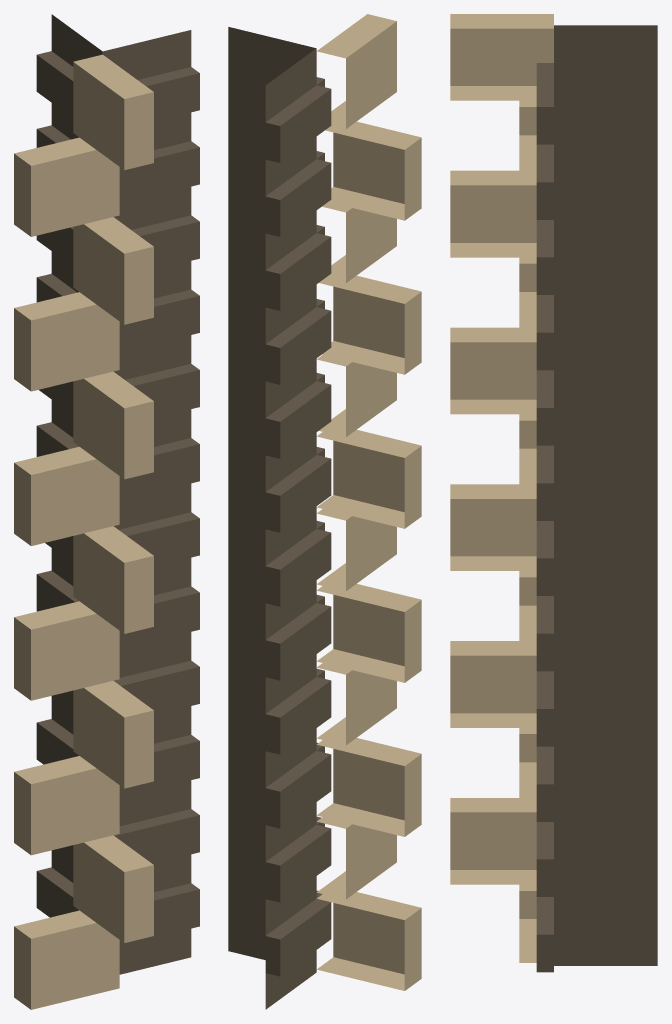
File: mid-c1_close.fbx
3 renders of one model, left to right at view 1: azimuth 30°, elevation 25°; view 2: azimuth 150°, elevation 25°; view 3: azimuth 270°, elevation 25°, orthographic.
Visible parts, largest first — view 1: a2015/400/mid-c1_close; view 2: a2015/400/mid-c1_close; view 3: a2015/400/mid-c1_close.
Boxes of the visible parts, x1,y1,x2,y2 form: a2015/400/mid-c1_close: (14,14,199,1009); a2015/400/mid-c1_close: (228,14,421,1009); a2015/400/mid-c1_close: (450,14,657,972).
Bounding box in the file's own units: 0.6 × 3 × 0.6.
